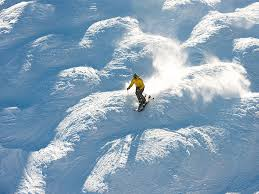skier: (126, 72, 154, 112)
